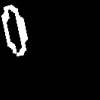chain: (2, 5, 27, 55)
